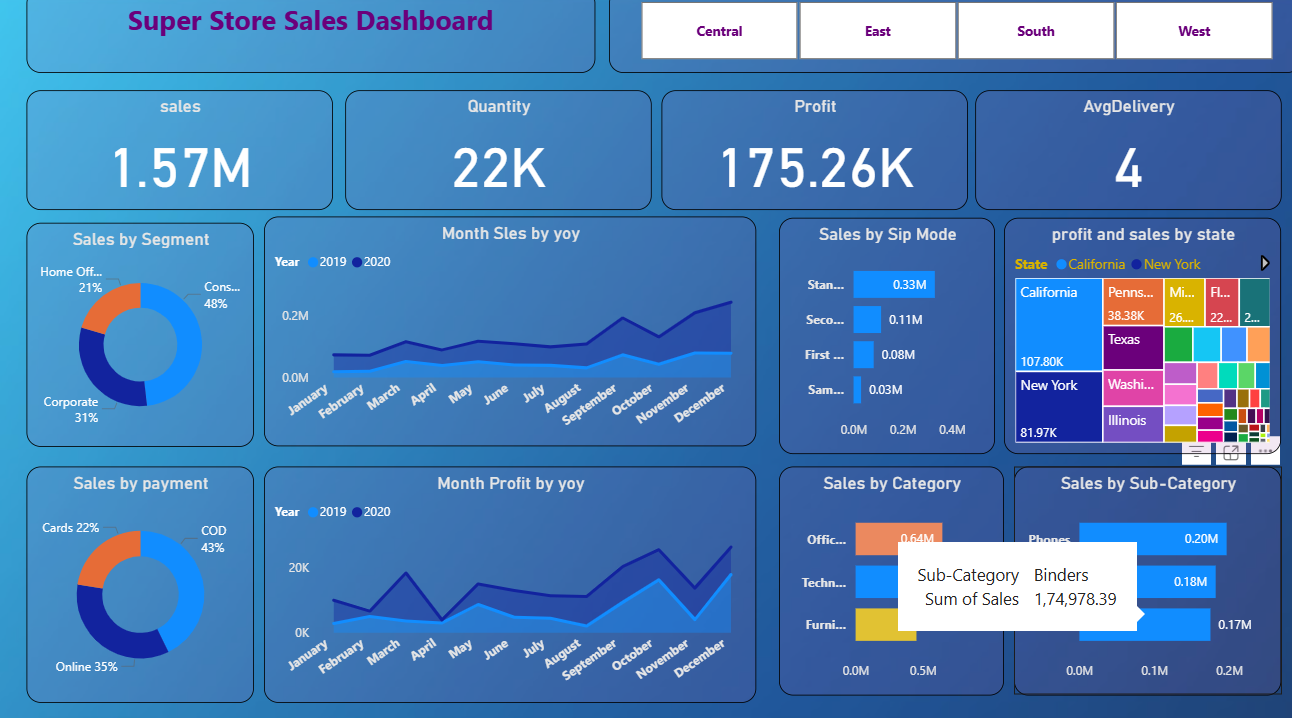

This screenshot's page, from the dashboard's own definition file:
{"tool":"powerbi","page":{"name":"Page 1","canvas":[1280,720],"ordinal":0},"visuals":[{"type":"clusteredBarChart","title":"Sales by Category","fields":{"Category":["SuperStore_Sales_Dataset.Category"],"Y":["Sum(SuperStore_Sales_Dataset.Sales)"]},"box":[765.6,468.7,220.9,224.5],"z":0},{"type":"clusteredBarChart","title":"Sales by Sip Mode","fields":{"Y":["Sum(SuperStore_Sales_Dataset.Sales)"],"Category":["SuperStore_Sales_Dataset.Ship Mode"]},"box":[765.6,224.5,212.3,231.9],"z":1000},{"type":"clusteredBarChart","title":"Sales by Sub-Category","fields":{"Y":["Sum(SuperStore_Sales_Dataset.Sales)"],"Category":["SuperStore_Sales_Dataset.Sub-Category"]},"box":[996.3,468.7,262.6,224.5],"z":2000},{"type":"stackedAreaChart","title":"Month Sles by yoy","fields":{"Y":["Sum(SuperStore_Sales_Dataset.Sales)"],"Category":["SuperStore_Sales_Dataset.Order Date.Variation.Date Hierarchy.Month","SuperStore_Sales_Dataset.Order Date.Variation.Date Hierarchy.Day"],"Series":["SuperStore_Sales_Dataset.Order Date.Variation.Date Hierarchy.Year"]},"box":[260.1,223.3,483.4,225.8],"z":3000},{"type":"stackedAreaChart","title":"Month Profit by yoy","fields":{"Category":["SuperStore_Sales_Dataset.Order Date.Variation.Date Hierarchy.Month","SuperStore_Sales_Dataset.Order Date.Variation.Date Hierarchy.Day"],"Series":["SuperStore_Sales_Dataset.Order Date.Variation.Date Hierarchy.Year"],"Y":["Sum(SuperStore_Sales_Dataset.Profit)"]},"box":[260.1,468.7,483.4,231.9],"z":4000},{"type":"treemap","title":"profit and sales by state","fields":{"Group":["SuperStore_Sales_Dataset.State"],"Values":["Sum(SuperStore_Sales_Dataset.Sales)"]},"box":[986.5,224.5,272.4,231.9],"z":5000},{"type":"donutChart","title":"Sales by Segment","fields":{"Category":["SuperStore_Sales_Dataset.Segment"],"Y":["Sum(SuperStore_Sales_Dataset.Sales)"]},"box":[27,229.4,223.3,219.6],"z":6000},{"type":"donutChart","title":"Sales by payment","fields":{"Category":["SuperStore_Sales_Dataset.Payment Mode"],"Y":["Sum(SuperStore_Sales_Dataset.Sales)"]},"box":[27,468.7,223.3,231.9],"z":7000},{"type":"slicer","fields":{"Values":["SuperStore_Sales_Dataset.Region"]},"box":[598.8,0,681,82.2],"z":8000},{"type":"textbox","box":[27,0,558.3,82.2],"z":9000},{"type":"card","title":"sales","fields":{"Values":["Sum(SuperStore_Sales_Dataset.Sales)"]},"box":[27,99.4,300.6,117.8],"z":9001},{"type":"card","title":"Quantity","fields":{"Values":["Sum(SuperStore_Sales_Dataset.Quantity)"]},"box":[339.9,99.4,300.6,117.8],"z":9002},{"type":"card","title":"Profit","fields":{"Values":["Sum(SuperStore_Sales_Dataset.Profit)"]},"box":[650.3,99.4,300.6,117.8],"z":9004},{"type":"card","title":"AvgDelivery","fields":{"Values":["Avg(SuperStore_Sales_Dataset.AvgDelivery)"]},"box":[958.3,99.4,300.6,117.8],"z":9005}]}

Visuals, with their boxes in screenshot pixels (x1, y1, x2, y2), scaled from the page's 1280x720 canvas onto the 1292x718 screenshot:
"Sales by Category" clusteredBarChart: <region>773, 467, 996, 691</region>
"Sales by Sip Mode" clusteredBarChart: <region>773, 224, 987, 455</region>
"Sales by Sub-Category" clusteredBarChart: <region>1006, 467, 1271, 691</region>
"Month Sles by yoy" stackedAreaChart: <region>263, 223, 750, 448</region>
"Month Profit by yoy" stackedAreaChart: <region>263, 467, 750, 699</region>
"profit and sales by state" treemap: <region>996, 224, 1271, 455</region>
"Sales by Segment" donutChart: <region>27, 229, 253, 448</region>
"Sales by payment" donutChart: <region>27, 467, 253, 699</region>
slicer - SuperStore_Sales_Dataset.Region: <region>604, 0, 1291, 82</region>
textbox: <region>27, 0, 591, 82</region>
"sales" card: <region>27, 99, 331, 217</region>
"Quantity" card: <region>343, 99, 647, 217</region>
"Profit" card: <region>656, 99, 960, 217</region>
"AvgDelivery" card: <region>967, 99, 1271, 217</region>
